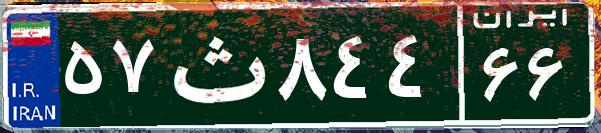4: (385, 28, 445, 110), (330, 28, 385, 110)
5: (57, 26, 110, 107)
6: (475, 38, 525, 113), (525, 38, 570, 115)
7: (110, 28, 158, 105)
8: (273, 28, 330, 110)
ث: (158, 15, 273, 115)
